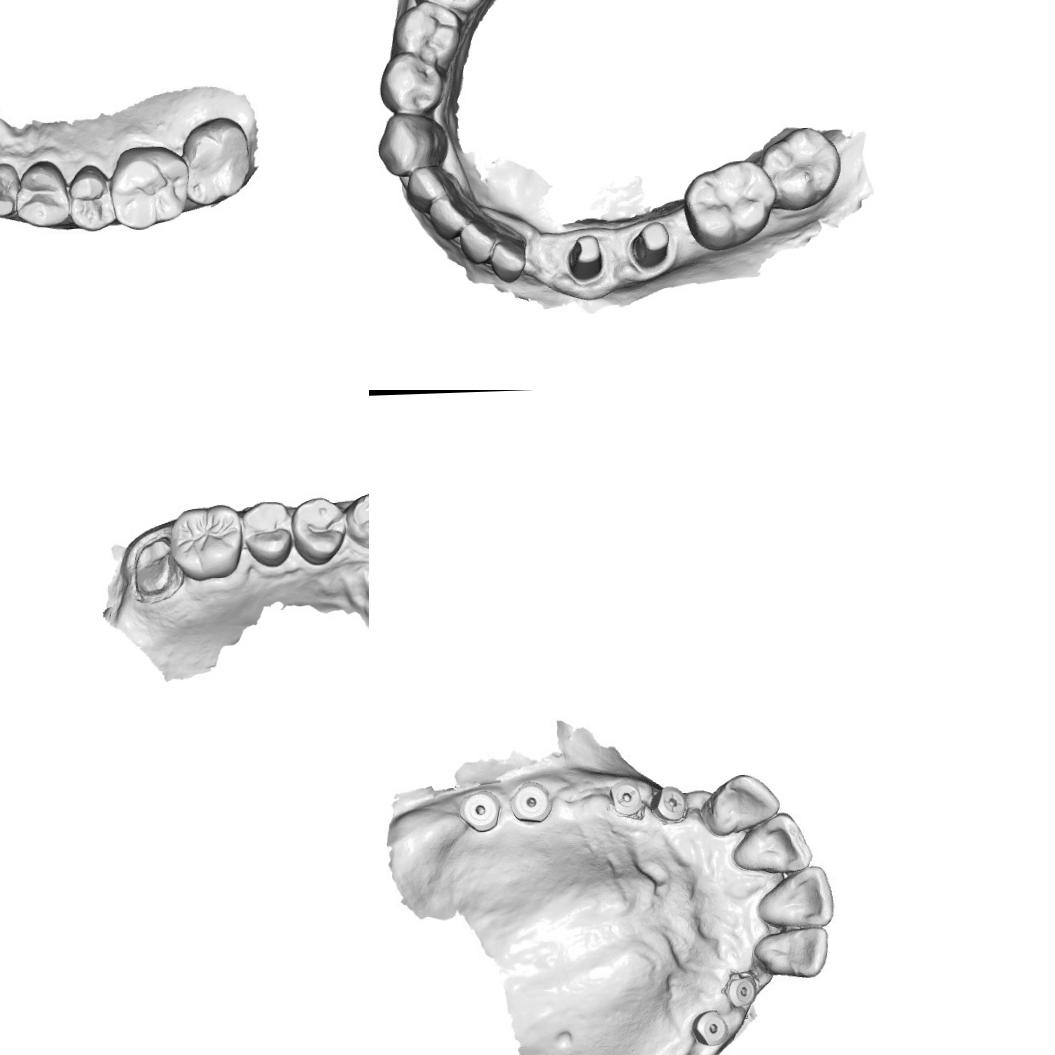abutment: (564, 232, 608, 282), (630, 222, 672, 272)
canine: (373, 110, 449, 178), (342, 491, 369, 551), (0, 157, 21, 222)
crown: (131, 534, 183, 603)
implant: (454, 786, 507, 839), (506, 776, 554, 829), (688, 1008, 741, 1054), (726, 975, 761, 1010)
implant_minus: (604, 774, 648, 818)
implant_plus: (649, 780, 689, 826)
incisor: (755, 926, 834, 985), (734, 816, 806, 874), (764, 870, 832, 930), (708, 776, 776, 834), (404, 162, 460, 212), (424, 191, 470, 241), (483, 238, 528, 284), (454, 218, 495, 264)
molar: (682, 156, 776, 254), (757, 122, 844, 213), (108, 143, 192, 232), (178, 114, 254, 210), (167, 502, 244, 582)
premolar: (388, 0, 461, 69), (375, 48, 447, 115), (290, 494, 348, 568), (238, 498, 296, 569), (12, 158, 68, 231), (62, 162, 118, 233)
